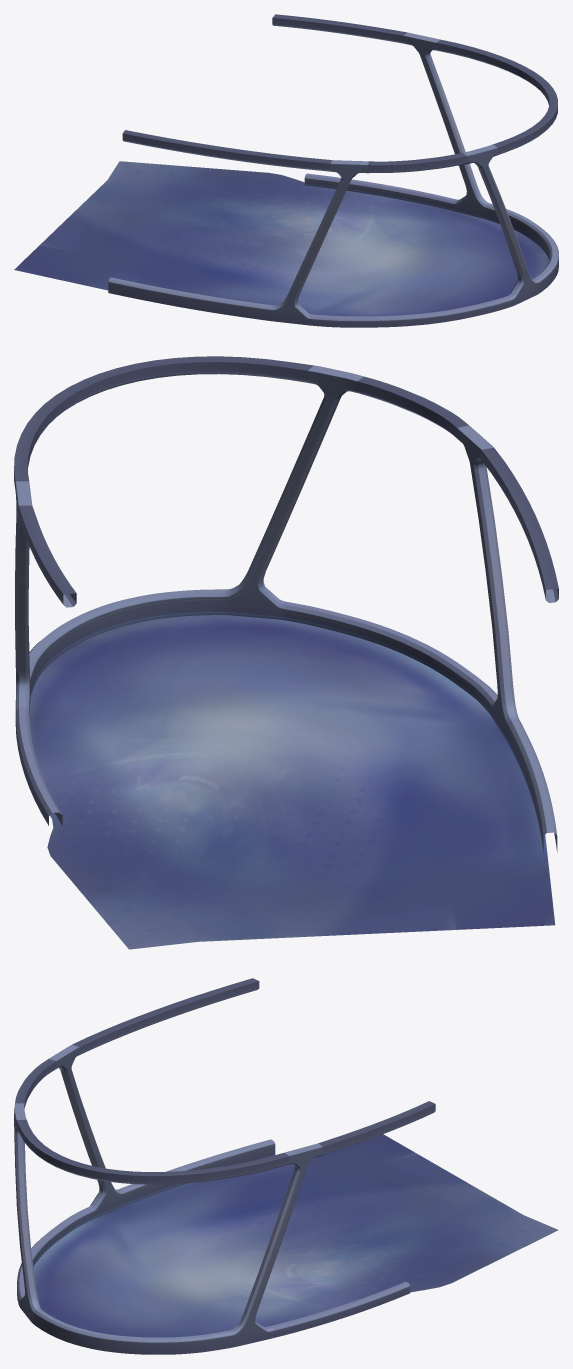
The model's file is pref_env_match001_lv0.fbx.
3 renders of one model, top to bottom at view 1: azimuth 30°, elevation 25°; view 2: azimuth 150°, elevation 25°; view 3: azimuth 270°, elevation 25°, orthographic. The views are drawn at different scales.
Parts seen in each view (by area): view 1: pref_sm_match_platform01_lv0, pref_sm_match_window01_lv3; view 2: pref_sm_match_platform01_lv0, pref_sm_match_window01_lv3; view 3: pref_sm_match_platform01_lv0, pref_sm_match_window01_lv3.
Boxes of the visible parts, x1,y1,x2,y2 form: pref_sm_match_platform01_lv0: (14, 161, 549, 316); pref_sm_match_window01_lv3: (108, 14, 558, 327); pref_sm_match_platform01_lv0: (29, 615, 555, 949); pref_sm_match_window01_lv3: (14, 356, 558, 852); pref_sm_match_platform01_lv0: (33, 1134, 558, 1337); pref_sm_match_window01_lv3: (14, 978, 435, 1354).
Size of the model in its own units: 20.03 by 7.38 by 20.35.
2 materials, 2 textured.
